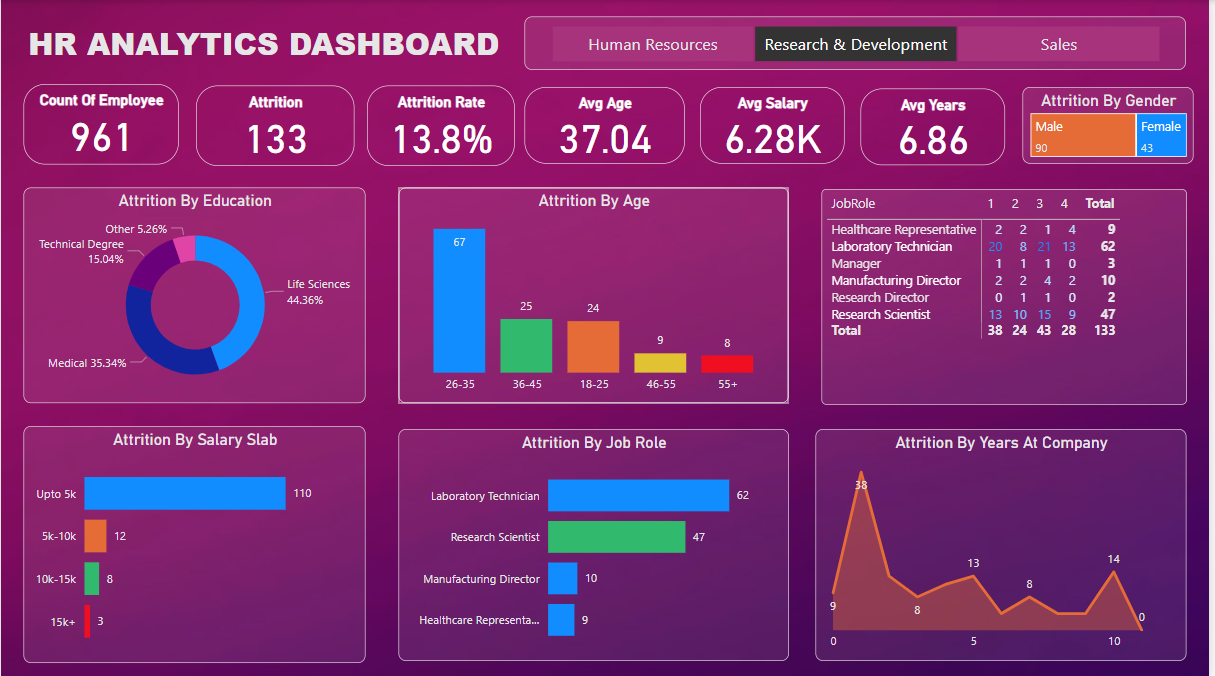

What the dashboard file says about the page in this screenshot:
{"tool":"powerbi","page":{"name":"Page 1","canvas":[1280,720],"ordinal":0},"visuals":[{"type":"card","title":"Count Of Employee","fields":{"Values":["CountNonNull(HR_Analytics.EmpID)"]},"box":[24.6,88.8,164.4,85],"z":0},{"type":"card","title":"Attrition Rate","fields":{"Values":["HR_Analytics.AttritionRate"]},"box":[387.4,90.7,156.9,85],"z":1000},{"type":"card","title":"Avg Age","fields":{"Values":["Avg(HR_Analytics.Age)"]},"box":[555.6,92.6,170.1,81.3],"z":2000},{"type":"card","title":"Attrition","fields":{"Values":["Sum(HR_Analytics.Attrition Count)"]},"box":[206,90.7,168.2,85],"z":3000},{"type":"card","title":"Avg Salary","fields":{"Values":["Avg(HR_Analytics.MonthlyIncome)"]},"box":[740.8,92.6,153.1,81.3],"z":4000},{"type":"card","title":"Avg Years","fields":{"Values":["Avg(HR_Analytics.YearsAtCompany)"]},"box":[910.9,94.5,153.1,81.3],"z":5000},{"type":"donutChart","title":"Attrition By Education","fields":{"Y":["Sum(HR_Analytics.Attrition Count)"],"Category":["HR_Analytics.EducationField"]},"box":[24.6,198.4,362.8,228.7],"z":6000},{"type":"columnChart","title":"Attrition By Age","fields":{"Category":["HR_Analytics.AgeGroup"],"Y":["Sum(HR_Analytics.Attrition Count)"]},"box":[421.4,198.4,413.9,228.7],"z":7000},{"type":"barChart","title":"Attrition By Salary Slab","fields":{"Category":["HR_Analytics.SalarySlab"],"Y":["Sum(HR_Analytics.Attrition Count)"]},"box":[24.6,451.7,362.8,251.3],"z":8000},{"type":"barChart","title":"Attrition By Job Role","fields":{"Y":["Sum(HR_Analytics.Attrition Count)"],"Category":["HR_Analytics.JobRole"]},"box":[421.4,455.4,413.9,245.7],"z":9000},{"type":"areaChart","title":"Attrition By Years At Company","fields":{"Category":["HR_Analytics.YearsAtCompany"],"Y":["Sum(HR_Analytics.Attrition Count)"]},"box":[863.6,455.4,393.1,245.7],"z":10000},{"type":"treemap","title":"Attrition By Gender","fields":{"Group":["HR_Analytics.Gender"],"Values":["Sum(HR_Analytics.Attrition Count)"]},"box":[1082.8,92.6,181.4,81.3],"z":11000},{"type":"slicer","fields":{"Values":["HR_Analytics.Department"]},"box":[555.6,17,701.1,56.7],"z":12000},{"type":"textbox","box":[24.6,17,531,56.7],"z":13000},{"type":"pivotTable","fields":{"Rows":["HR_Analytics.JobRole"],"Columns":["HR_Analytics.JobSatisfaction"],"Values":["Sum(HR_Analytics.Attrition Count)"]},"box":[870,201,387.4,228.7],"z":14000}]}

Visuals, with their boxes in screenshot pixels (x1, y1, x2, y2), scaled from the page's 1280x720 canvas onto the 1215x676 screenshot:
"Count Of Employee" card: box(23, 83, 179, 163)
"Attrition Rate" card: box(368, 85, 517, 165)
"Avg Age" card: box(527, 87, 689, 163)
"Attrition" card: box(196, 85, 355, 165)
"Avg Salary" card: box(703, 87, 849, 163)
"Avg Years" card: box(865, 89, 1010, 165)
"Attrition By Education" donutChart: box(23, 186, 368, 401)
"Attrition By Age" columnChart: box(400, 186, 793, 401)
"Attrition By Salary Slab" barChart: box(23, 424, 368, 660)
"Attrition By Job Role" barChart: box(400, 428, 793, 658)
"Attrition By Years At Company" areaChart: box(820, 428, 1193, 658)
"Attrition By Gender" treemap: box(1028, 87, 1200, 163)
slicer - HR_Analytics.Department: box(527, 16, 1193, 69)
textbox: box(23, 16, 527, 69)
pivotTable - HR_Analytics.JobRole x HR_Analytics.JobSatisfaction: box(826, 189, 1194, 403)
